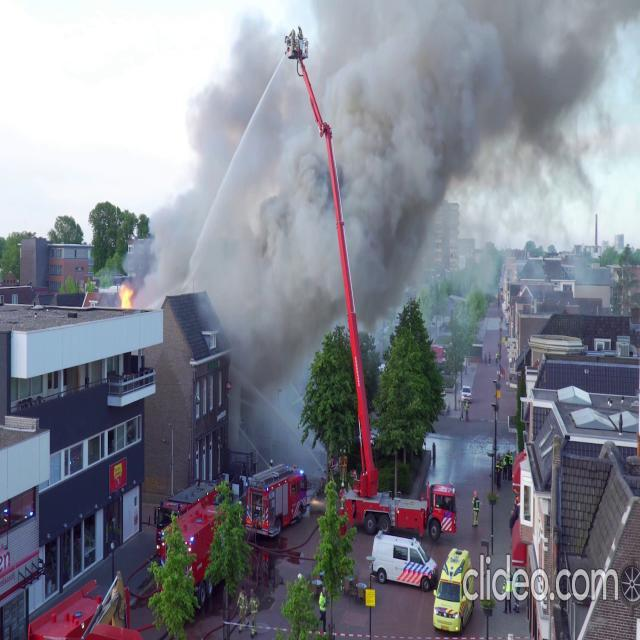Fire: (116, 278, 135, 310)
Smoke: (140, 0, 640, 357)
